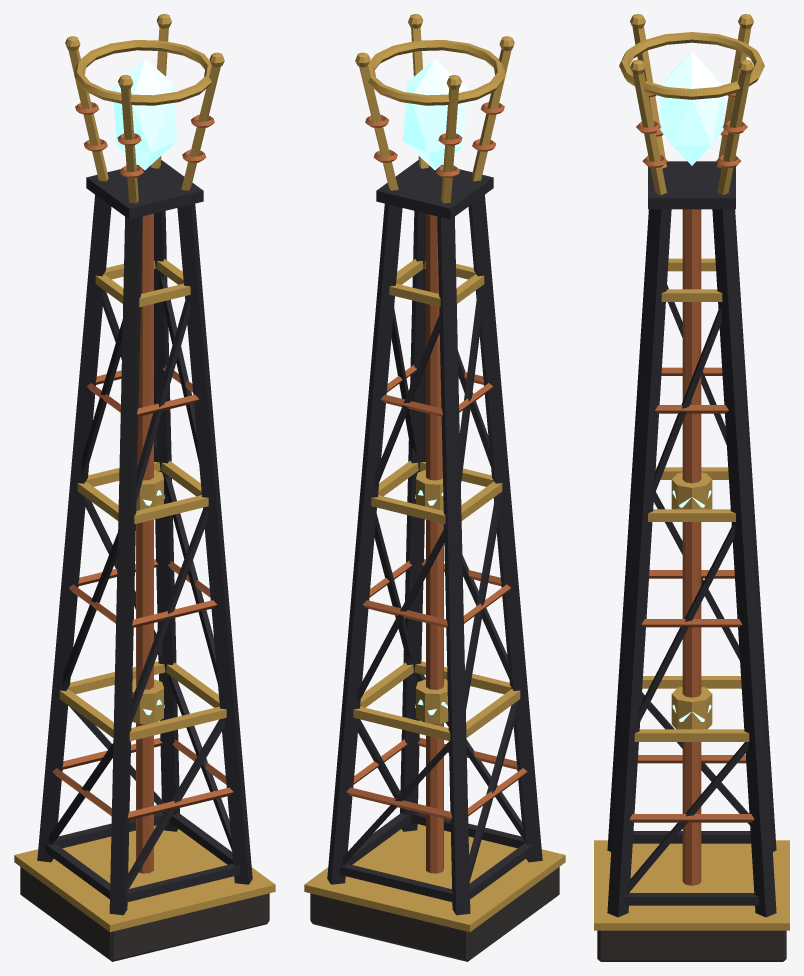
File: PilaoArcano.fbx
3 renders of one model, left to right at view 1: azimuth 30°, elevation 25°; view 2: azimuth 150°, elevation 25°; view 3: azimuth 270°, elevation 25°, orthographic. The views are drawn at different scales.
Visible parts, largest first — view 1: Corpo, CristalFlutuante; view 2: Corpo, CristalFlutuante; view 3: Corpo, CristalFlutuante.
Part boxes in pixels (bbox=[...]): Corpo: bbox=[14, 14, 275, 961]; CristalFlutuante: bbox=[112, 59, 177, 170]; Corpo: bbox=[304, 14, 565, 961]; CristalFlutuante: bbox=[402, 59, 467, 170]; Corpo: bbox=[594, 14, 789, 961]; CristalFlutuante: bbox=[660, 52, 723, 165].
Bounding box in the file's own units: 2.9 × 14.47 × 2.9.
